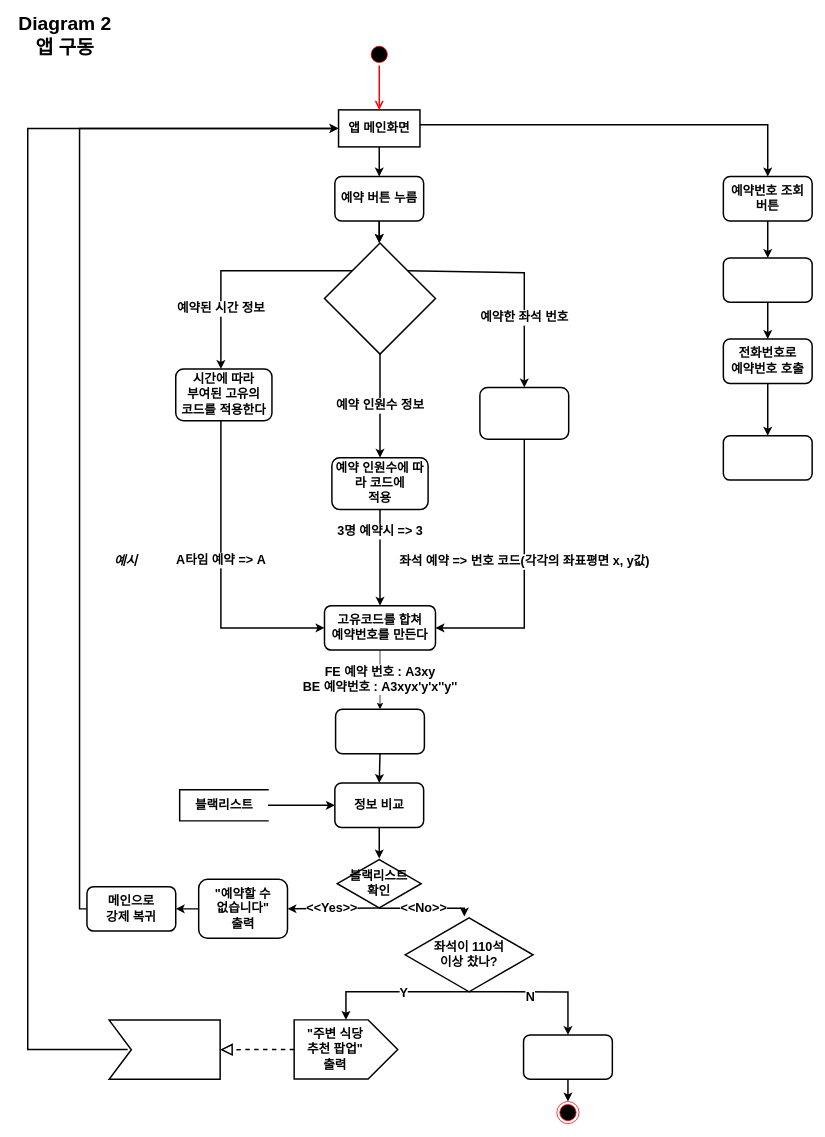
This 825x1137 diagram has some shape labels left out. Here are the shapes that lost their labels. From the top down, the centre of each, then its label:
the point at 379,298: 정보에 따라 따로 처리
the point at 767,280: 예약 시 사용한 전화번호 기입
the point at 524,413: 좌석 고유의 번호 코드 적용한다
the point at 767,457: 예약번호 출력 팝업
the point at 379,731: 개인 정보 동의
the point at 164,1049: 확인 버튼 누르면 사라짐
the point at 567,1057: 예약 완료 메시지 출력
